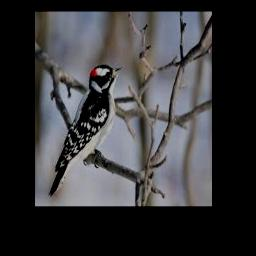Woodpecker: (49, 65, 123, 197)
